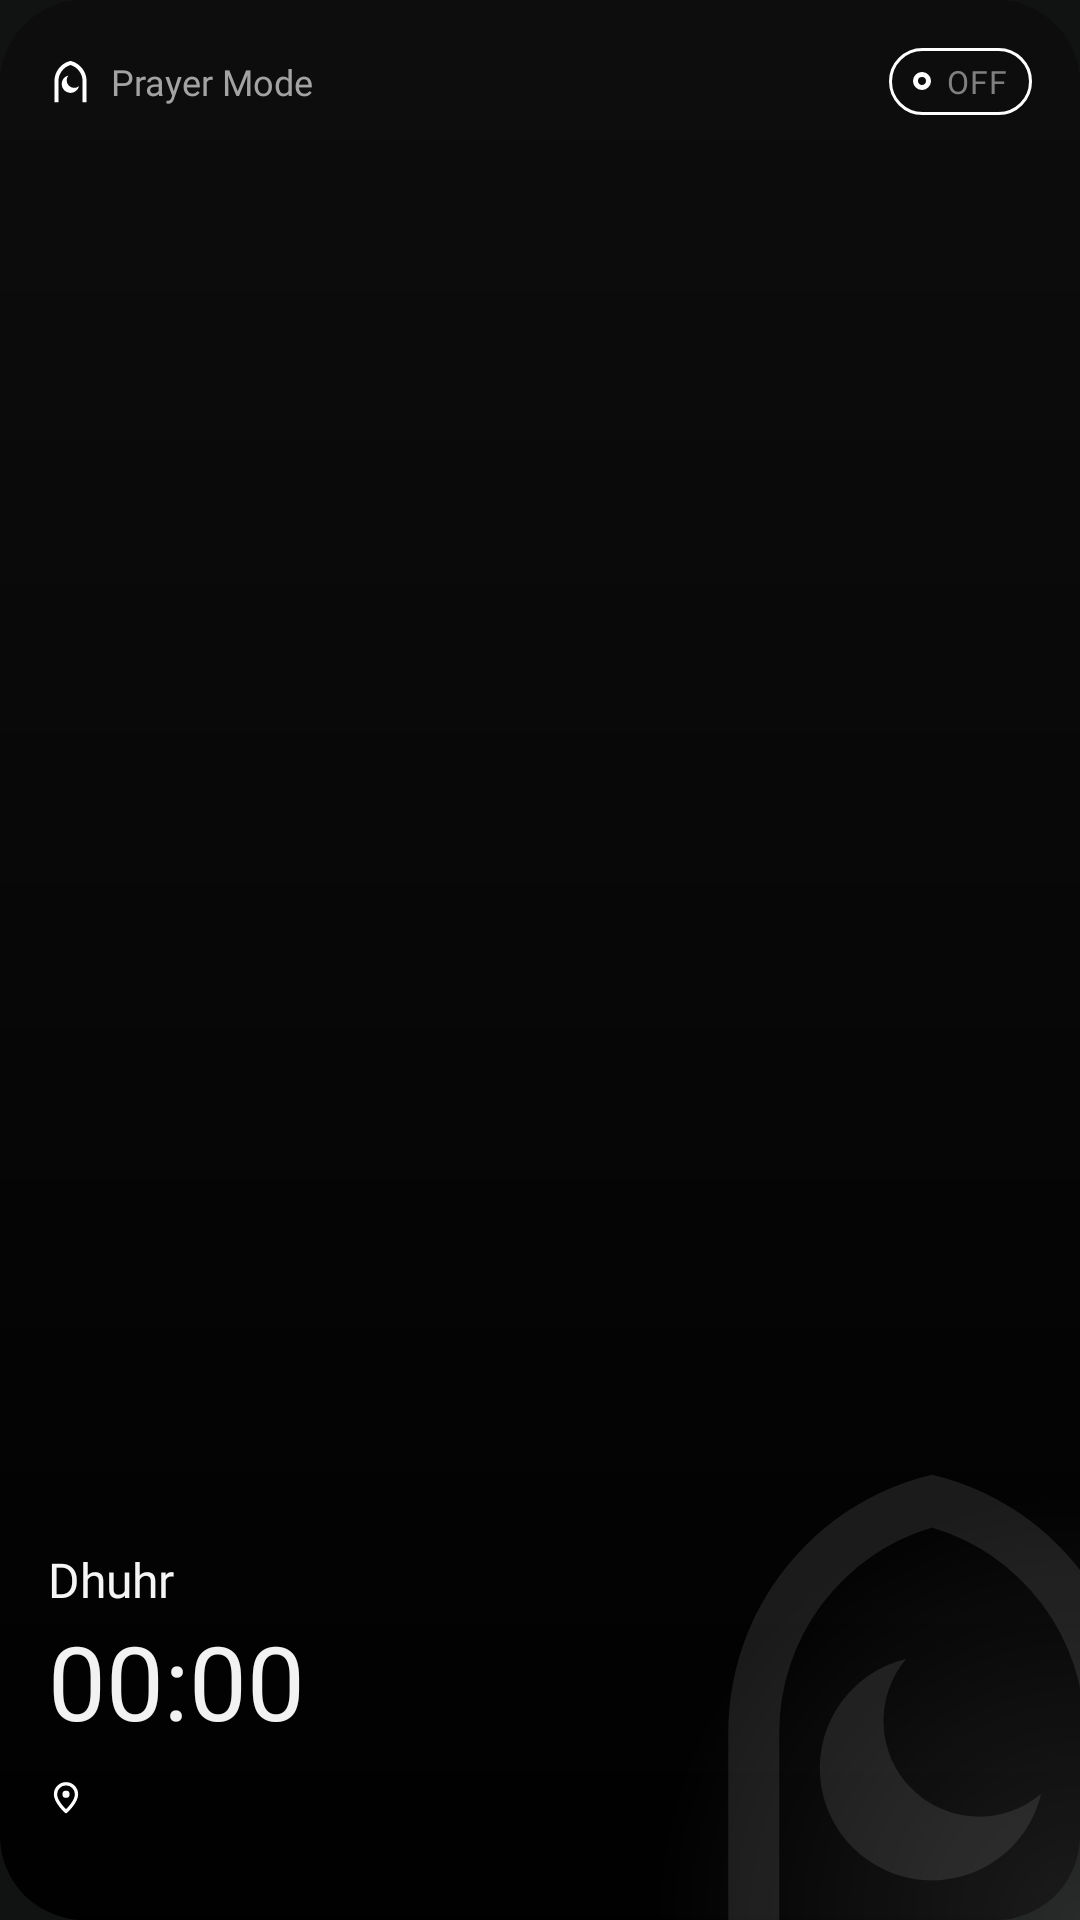

Icons on this 1080w x 1920h Android screen, each with its box as [x1,y1,x2,y2]:
widget pill: [889,48,1032,115]
widget pin: [53,1782,79,1814]
